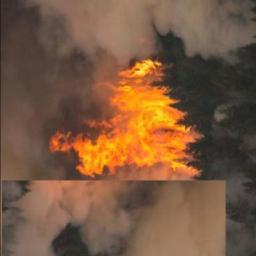Heavy smoke: (0, 0, 256, 256)
Small fire: (49, 31, 217, 212)
